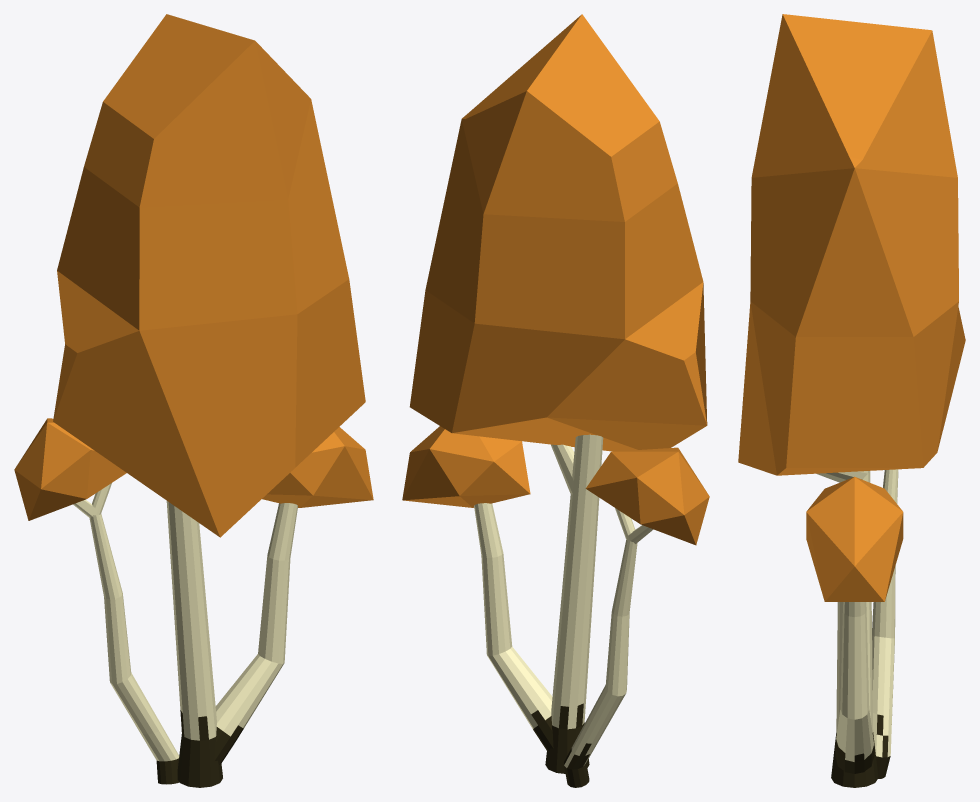
File: birchtree 1.fbx
The picture shows the model from 3 angles, left to right: view 1: azimuth 30°, elevation 25°; view 2: azimuth 150°, elevation 25°; view 3: azimuth 270°, elevation 25°; orthographic projection. The views are drawn at different scales.
Parts seen in each view (by area): view 1: Icosphere.002, Cylinder; view 2: Icosphere.002, Cylinder; view 3: Icosphere.002, Cylinder.
Boxes of the visible parts, left/top/right/bottom form: Icosphere.002: left=14, top=14, right=373, bottom=537; Cylinder: left=73, top=483, right=297, bottom=787; Icosphere.002: left=402, top=14, right=709, bottom=545; Cylinder: left=474, top=434, right=653, bottom=787; Icosphere.002: left=738, top=14, right=965, bottom=601; Cylinder: left=816, top=469, right=898, bottom=787.
Bounding box in the file's own units: 639 × 1464 × 386.
